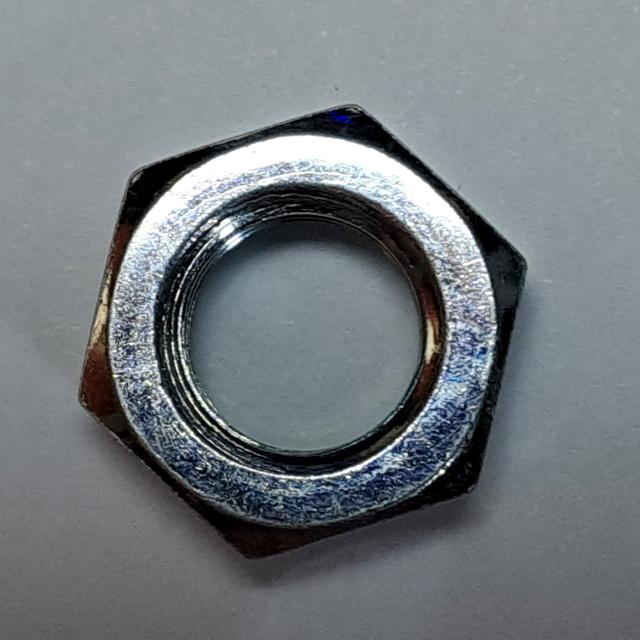Excellent: (59, 89, 544, 581)
